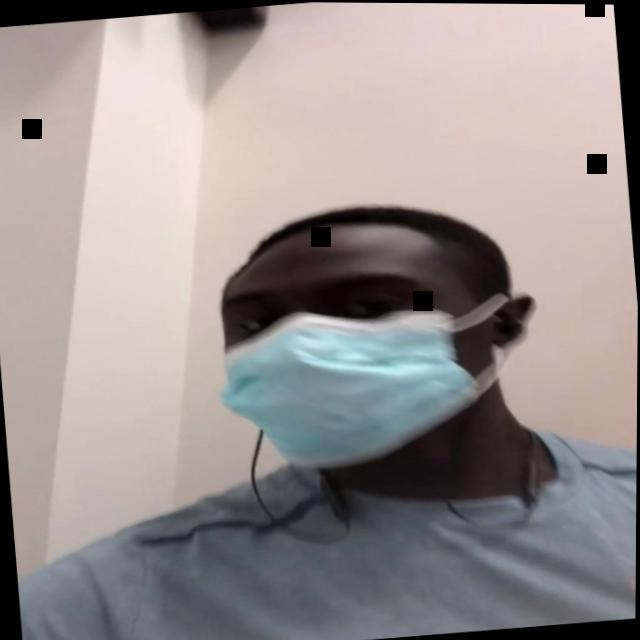Mask: (209, 231, 516, 475)
